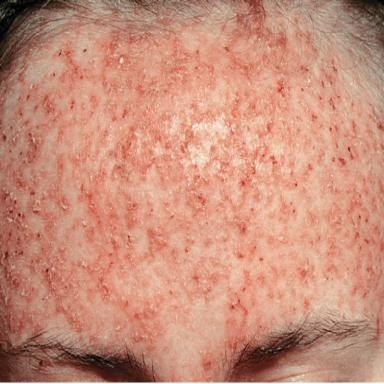Darier_s-Disease: (1, 1, 384, 379)
